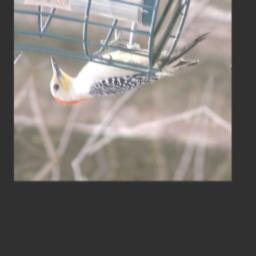Woodpecker: (38, 9, 213, 125)
